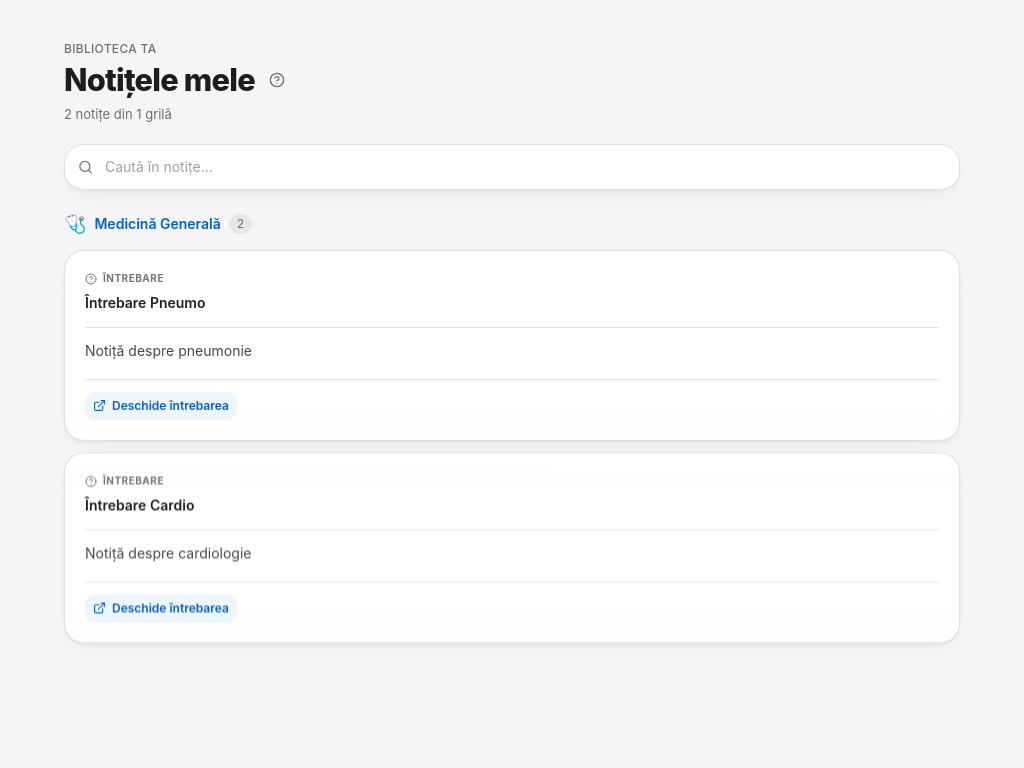
Test: Notes question links › filters notes via search input and resets properly
The image size is (1024, 768).
Expected: the text "Notiță despre pneumonie" is shown, 85,342 -> 252,359
Expected: the text "Notiță despre cardiologie" is shown, 85,545 -> 252,562
Type "pneumonie" into the field labelled "Caută în notițe". click: coordinates (512, 167)
box: 64,144 -> 960,190
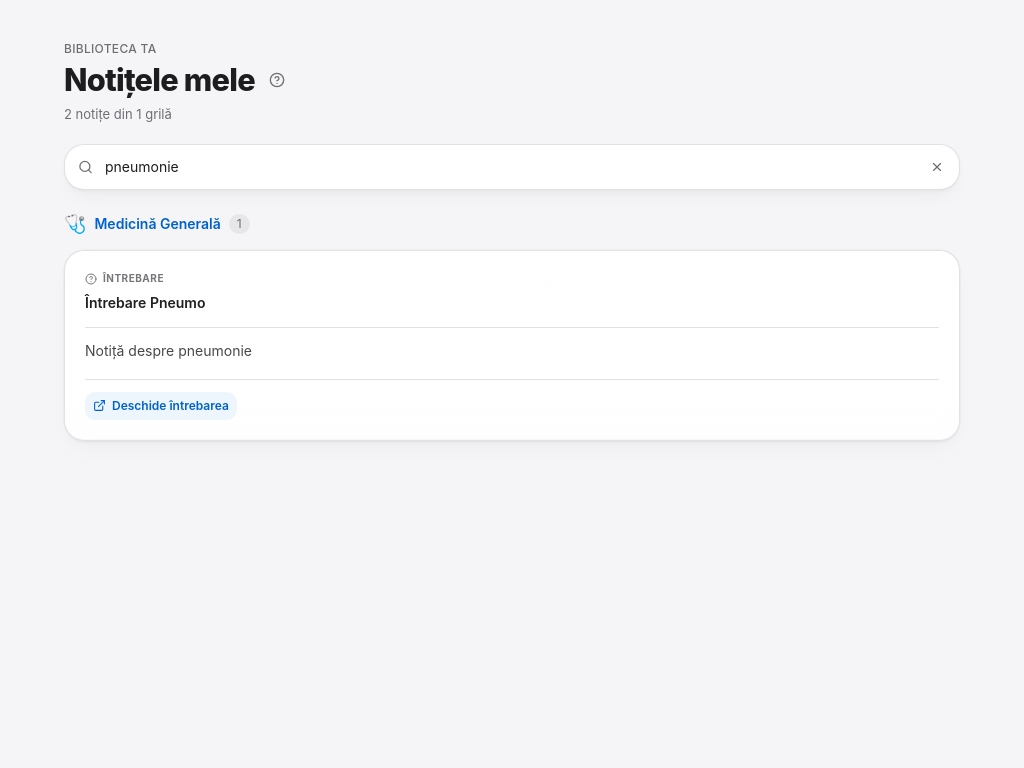
Expected: the text "Notiță despre pneumonie" is shown, 85,342 -> 252,359
Result: the text "Notiță despre cardiologie" is gone
Replace the text in the field named "Caută în notițe" with "negasit_xyz". click: coordinates (512, 167)
box: 64,144 -> 960,190
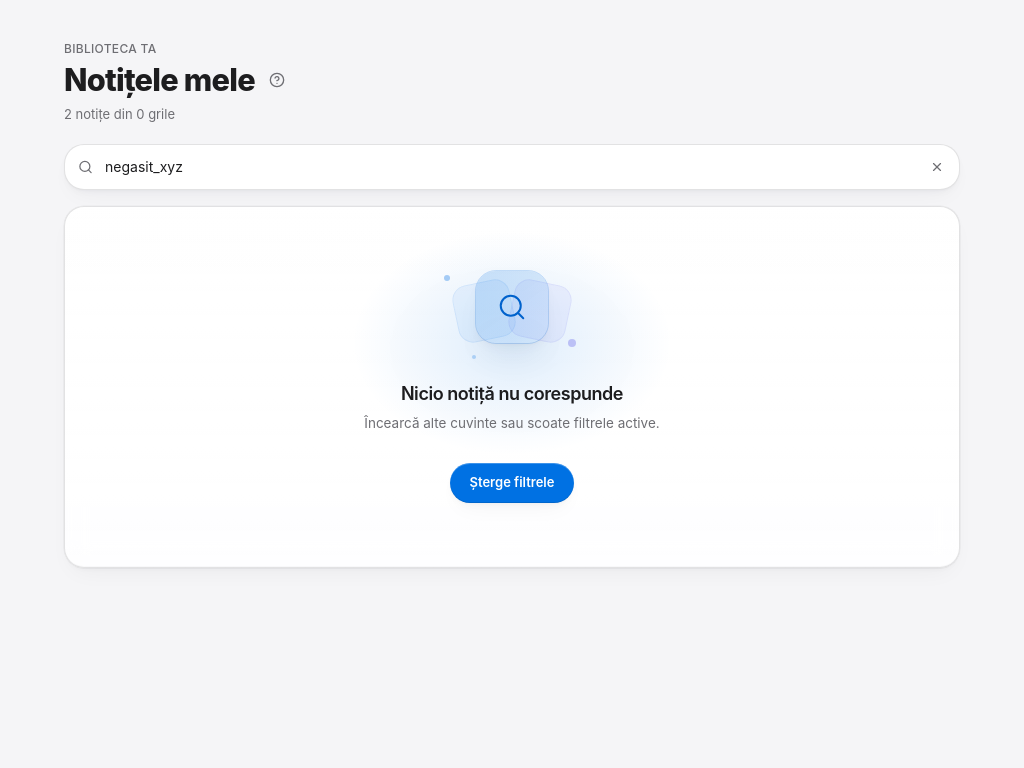
Result: the heading "Nicio notiță nu corespunde" is shown at 401,383 -> 623,404
